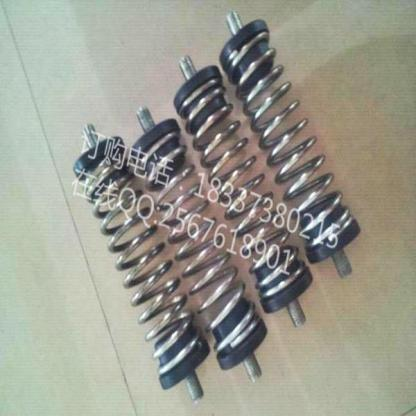FOD: (224, 27, 355, 250), (134, 129, 261, 358), (178, 77, 305, 301), (82, 157, 200, 374)
